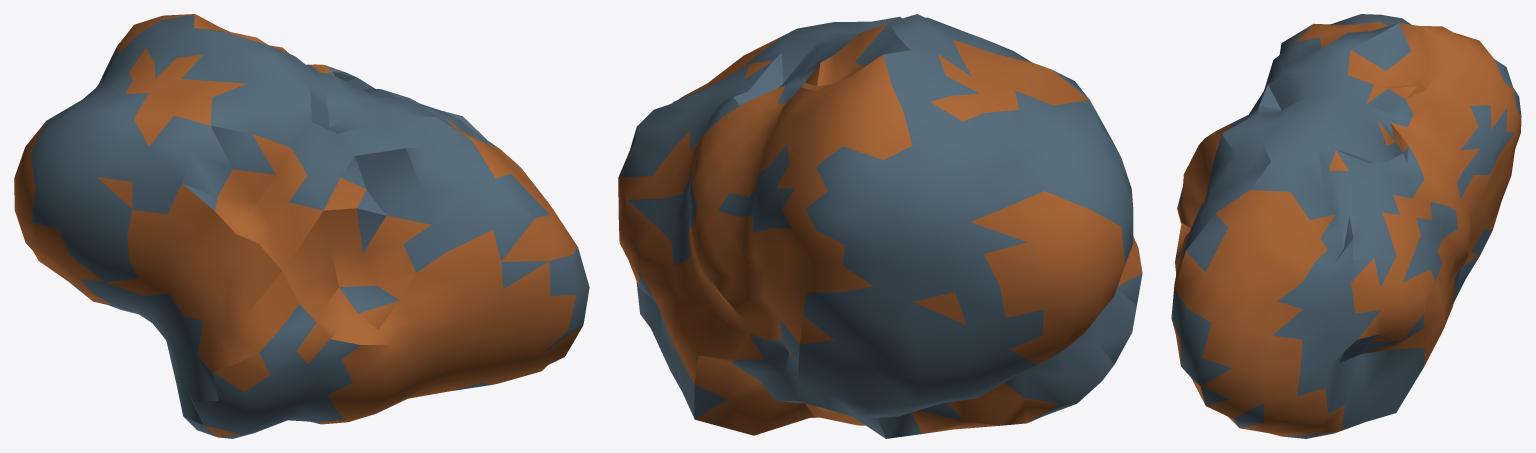
Rendered from small-metallic-asteroid.glb.
3 renders of one model, left to right at view 1: azimuth 30°, elevation 25°; view 2: azimuth 150°, elevation 25°; view 3: azimuth 270°, elevation 25°, orthographic. The views are drawn at different scales.
Visible parts, largest first — view 1: body; view 2: body; view 3: body.
Boxes of the visible parts, <box> form: body: <box>14,14,589,438</box>; body: <box>618,14,1142,438</box>; body: <box>1171,14,1521,438</box>.
Size of the model in its own units: 1.93 by 1.48 by 1.44.
